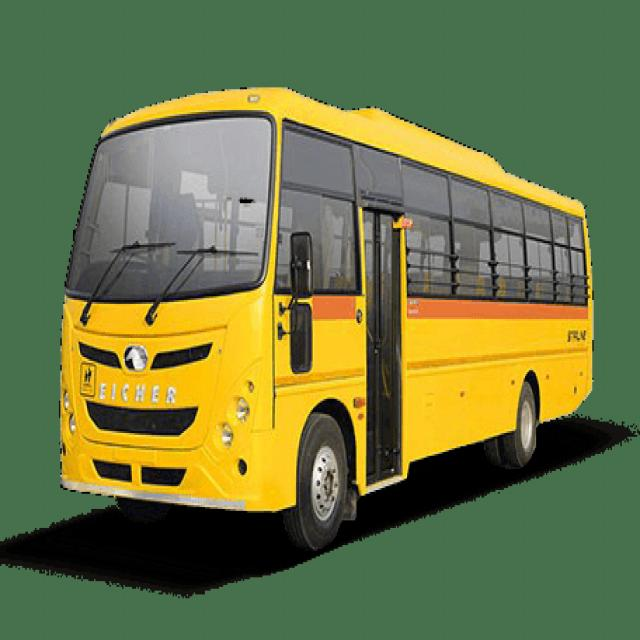bus: (62, 84, 594, 550)
